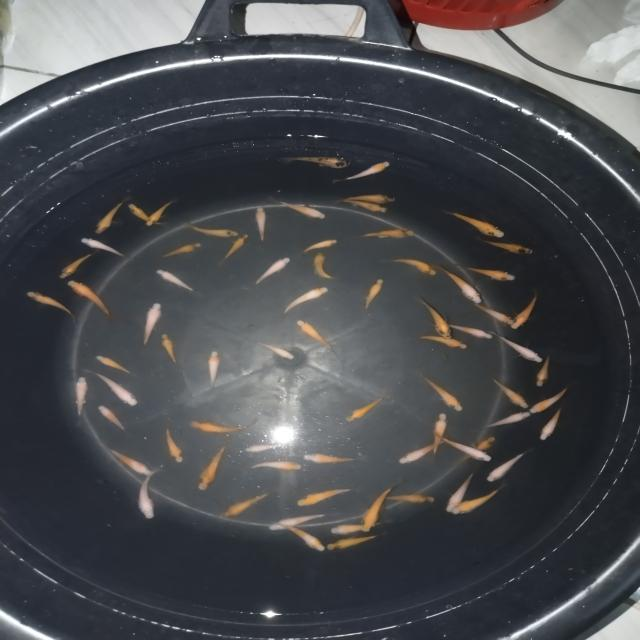nila: (65, 278, 125, 324), (24, 288, 81, 328), (436, 263, 486, 306), (90, 368, 140, 411), (98, 442, 156, 479), (446, 482, 509, 516), (493, 330, 549, 368), (194, 438, 233, 492), (274, 519, 328, 555), (294, 318, 340, 360), (434, 432, 494, 464), (420, 373, 468, 413), (446, 208, 506, 240), (436, 470, 477, 514), (360, 484, 395, 534), (394, 436, 450, 467), (218, 492, 272, 524), (333, 157, 392, 186), (54, 247, 104, 281), (134, 464, 162, 524), (90, 196, 132, 236), (482, 450, 534, 482), (418, 296, 454, 342), (280, 149, 352, 172), (293, 484, 361, 508), (278, 284, 329, 316), (266, 512, 336, 534), (186, 416, 262, 436), (248, 256, 290, 292), (78, 234, 136, 260), (422, 410, 452, 460), (152, 266, 202, 296), (509, 288, 543, 332), (489, 376, 532, 410), (324, 530, 384, 554), (528, 381, 573, 413), (342, 394, 388, 424), (438, 319, 498, 342), (458, 262, 520, 284), (278, 196, 330, 222), (178, 220, 242, 241), (380, 255, 438, 278), (143, 198, 179, 235), (89, 352, 140, 378), (482, 408, 534, 433), (466, 301, 516, 327), (411, 332, 470, 354), (160, 419, 187, 467), (140, 300, 167, 348), (353, 223, 414, 244), (96, 404, 135, 436), (127, 202, 170, 231), (214, 231, 252, 263), (481, 237, 536, 259), (149, 240, 204, 262), (534, 404, 564, 444), (242, 458, 308, 476), (301, 448, 363, 466), (203, 348, 226, 396), (462, 434, 498, 464), (334, 198, 394, 215), (72, 374, 92, 424), (298, 236, 343, 258), (159, 331, 183, 372), (358, 278, 384, 315), (256, 340, 296, 364), (336, 192, 398, 207), (378, 491, 436, 506), (532, 351, 554, 388), (328, 520, 386, 534), (311, 250, 336, 282), (252, 204, 270, 246), (239, 444, 286, 456)
